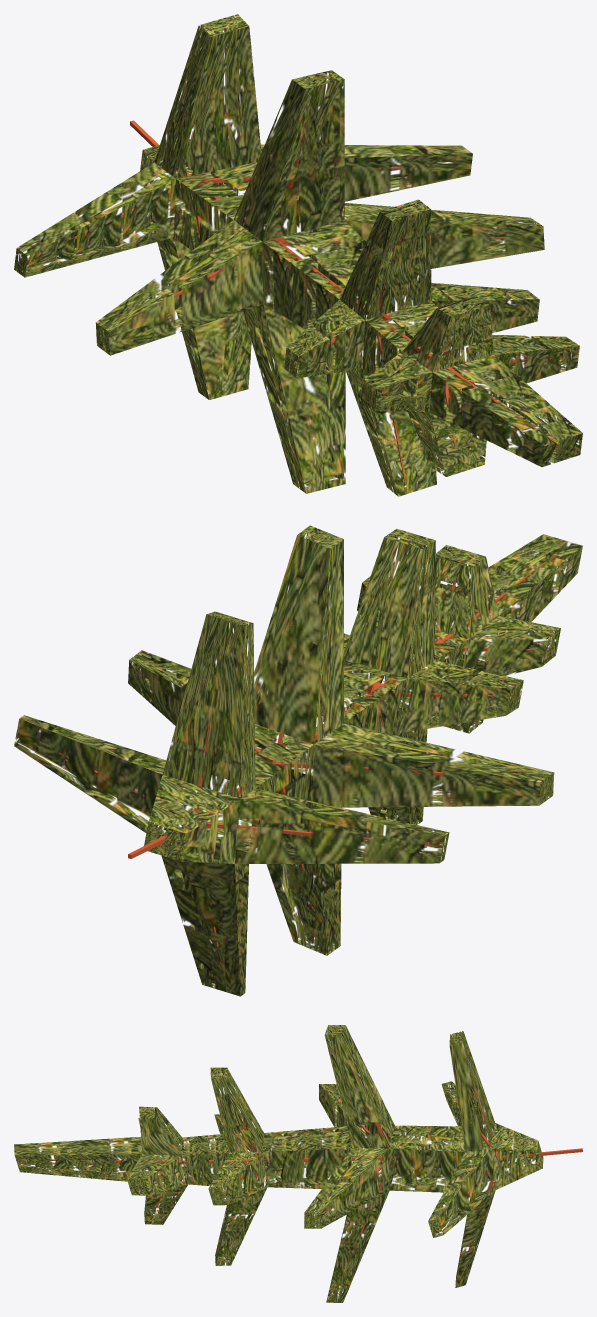
File: tree-sampling-pine-4-a.glb
3 views of the same model, one above another, from view 1: azimuth 30°, elevation 25°; view 2: azimuth 150°, elevation 25°; view 3: azimuth 270°, elevation 25° (orthographic). The views are drawn at different scales.
Parts seen in each view (by area): view 1: Cube, Plane; view 2: Cube, Plane; view 3: Cube, Plane.
Boxes of the visible parts, x1,y1,x2,y2 form: Cube: [14, 14, 582, 496]; Plane: [27, 28, 562, 484]; Cube: [14, 525, 582, 996]; Plane: [38, 544, 554, 964]; Cube: [14, 1025, 543, 1302]; Plane: [39, 1033, 582, 1287].
Size of the model in its own units: 0.2893 by 0.2524 by 0.4839.
Materials: 2 (1 with a texture image).
